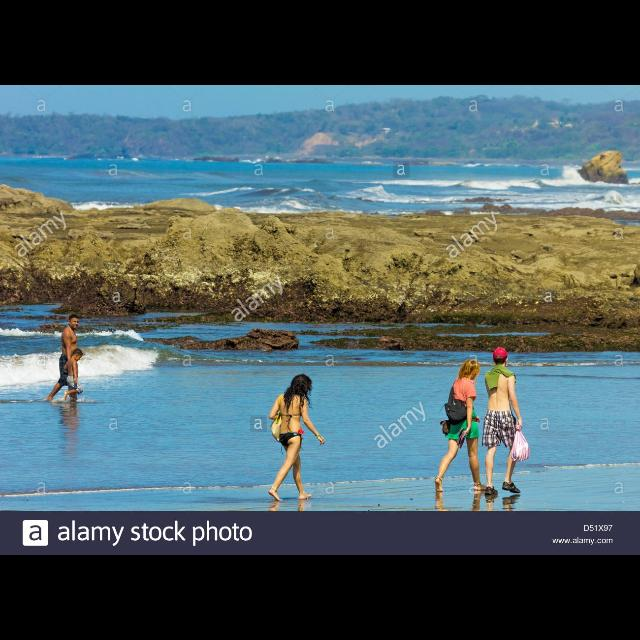head: (292, 374, 312, 396), (464, 360, 480, 382), (493, 347, 509, 367), (68, 314, 80, 330), (72, 349, 84, 363)
person: (431, 356, 494, 496), (266, 372, 328, 504), (480, 346, 532, 498), (40, 314, 86, 410), (62, 348, 84, 414)
